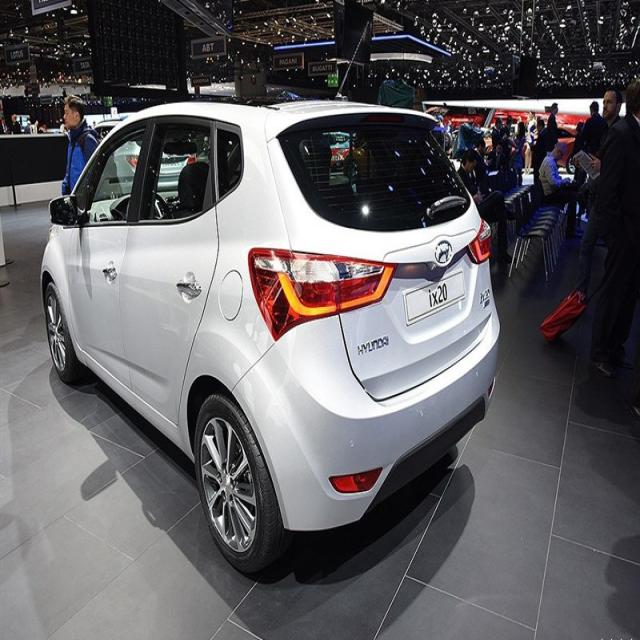back_glass: (275, 112, 472, 235)
back_left_side_light: (248, 246, 398, 343)
back_right_side_light: (464, 217, 494, 265)
door: (128, 120, 227, 387)
front_left_side_door: (65, 110, 157, 392)
front_left_side_mirror: (47, 188, 85, 230)
rear_bumper: (226, 310, 502, 533)
wheel: (193, 392, 286, 576), (45, 281, 85, 385)
